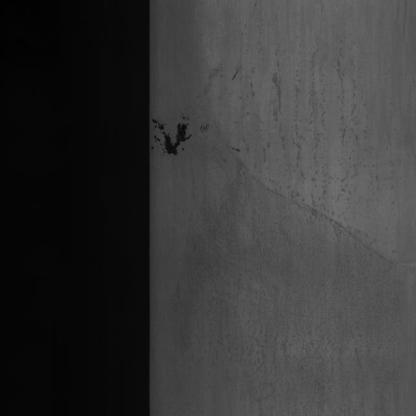inclusion: (151, 103, 197, 175)
silk_spot: (211, 30, 389, 370)
